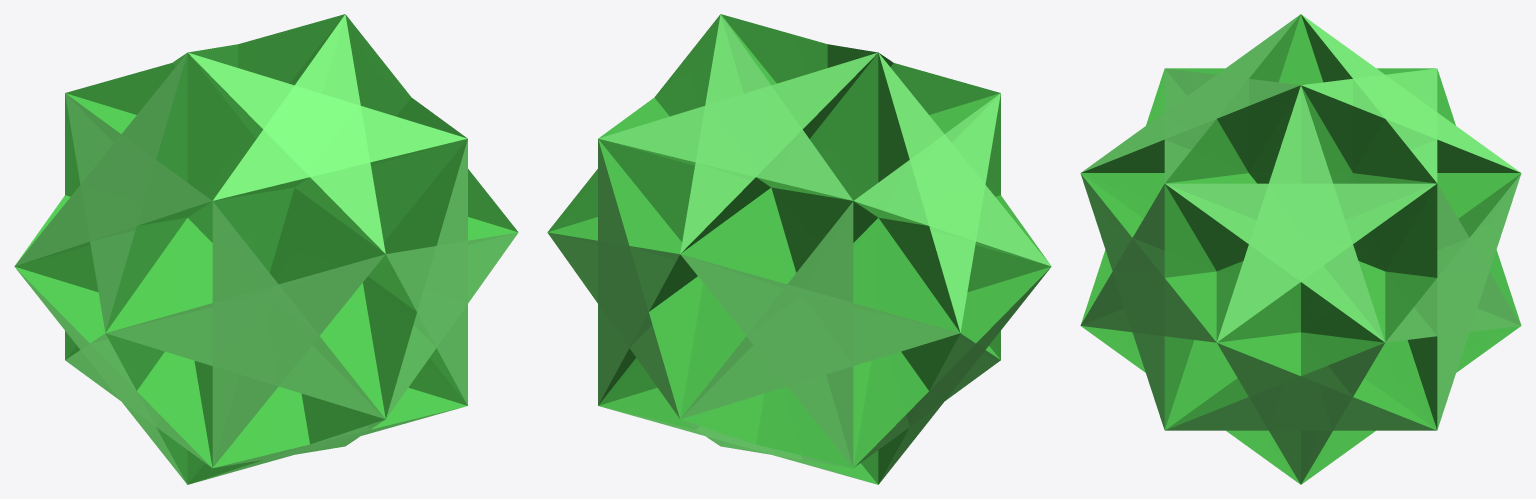
The model's file is DitrigonalDodecadodecahedron.obj.
The picture shows the model from 3 angles, left to right: view 1: azimuth 30°, elevation 25°; view 2: azimuth 150°, elevation 25°; view 3: azimuth 270°, elevation 25°; orthographic projection. The views are drawn at different scales.
Bounding box in the file's own units: 1.62 × 1.62 × 1.62.
